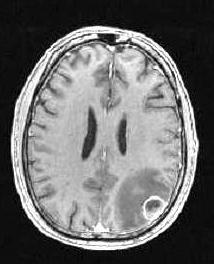Normal_Brain: (1, 1, 214, 264)
